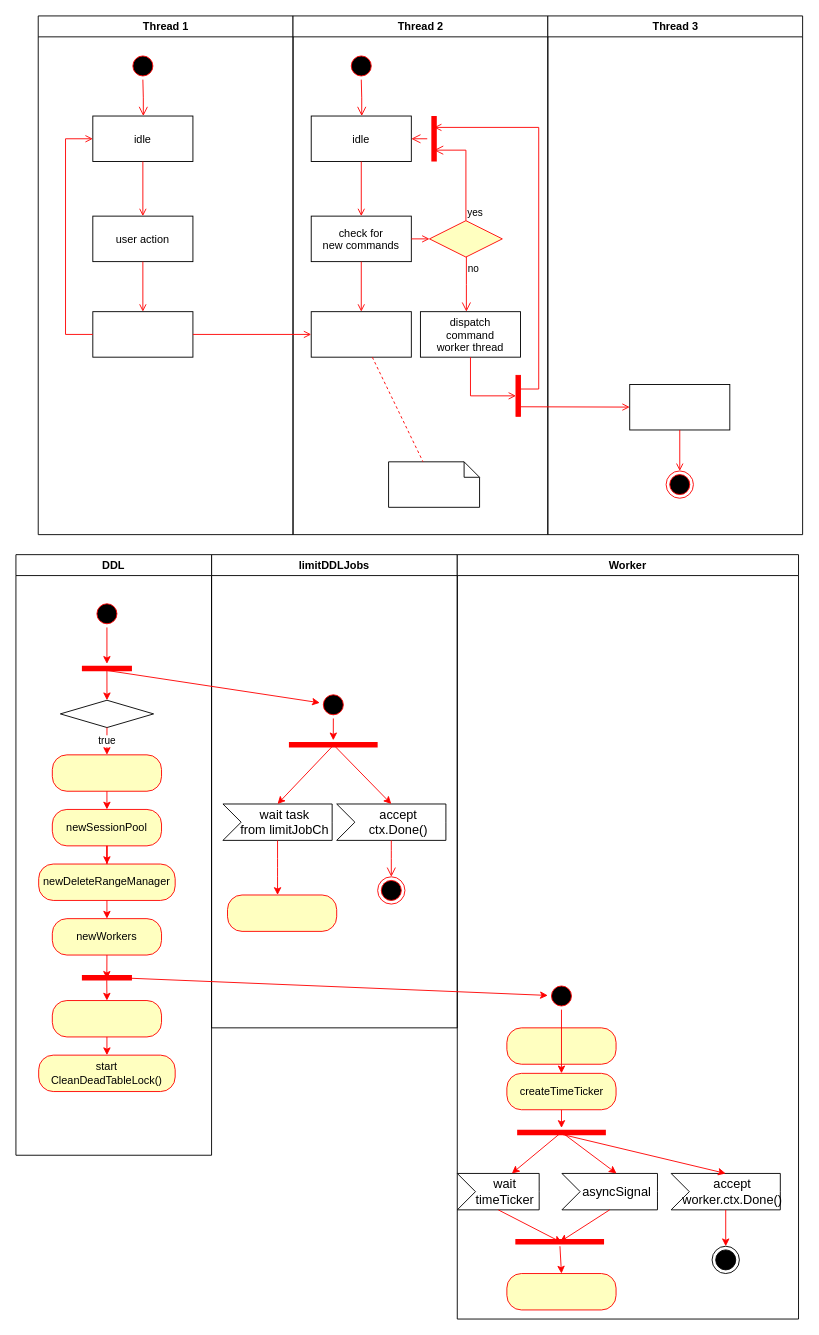
Image size: 819x1335. Some labels were removed from this diagram. Here are the shapes that lost their labels. From the top down, the centre of each, then its label:
the point at 465,238: queue empty
the point at 142,334: post command
the point at 360,334: command queue
the point at 679,407: process command
the point at 434,484: critical section
the point at 106,713: RunWorker
the point at 106,772: CampaignOwner
the point at 282,912: addBatchDDLJobs
the point at 106,1018: schemaSyncer startCleanWork
the point at 561,1045: chooseLeaseTime
the point at 561,1291: handleDDLJobQueue
